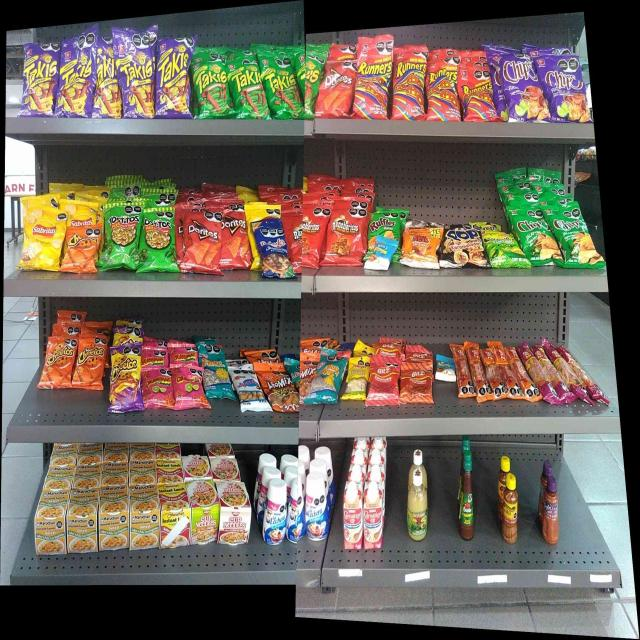bitzAlmendras: (368, 242, 397, 271), (436, 355, 456, 384)
bitzEnchilado90: (372, 359, 397, 405), (403, 364, 428, 402)
bitzEnchilado95: (456, 342, 523, 403)
bitzHabanero: (529, 348, 586, 403)
bokadosCacahuates: (262, 233, 286, 276)
botaneraChilito: (502, 473, 518, 545)
cheetosFlaminHot: (114, 356, 139, 407)
cheetosOriginal: (48, 336, 73, 388), (66, 232, 98, 271), (78, 342, 102, 383)
chipsFuego: (506, 57, 536, 118), (548, 65, 580, 118)
chipsJalapeno: (558, 211, 588, 264), (524, 212, 546, 258)
chipsPapatinas: (486, 237, 514, 266)
churrumais: (144, 371, 172, 406), (176, 370, 201, 403), (173, 343, 197, 364), (144, 346, 168, 364)
delPrimoSalsa: (406, 468, 428, 543)
doritosNacho: (189, 221, 220, 264), (222, 214, 246, 266), (323, 71, 351, 113)
hotNutsOriginal: (408, 226, 438, 264)
leoCacahuates: (238, 370, 262, 411)
leoMix: (267, 371, 292, 404), (298, 362, 316, 392)
maruchanPollo: (70, 494, 97, 552), (132, 488, 158, 548), (39, 494, 65, 553), (101, 492, 128, 547)
maruchanRes: (162, 488, 187, 548)
nestleCarnation: (363, 483, 383, 550), (344, 483, 362, 552)
nestleLechera: (264, 481, 288, 545), (306, 472, 327, 544)
nissinCamaron: (192, 490, 218, 548)
nissinRes: (222, 490, 248, 545)
popKarameladas: (446, 226, 479, 266)
rancheritos: (330, 214, 360, 256), (302, 213, 324, 265), (290, 217, 300, 250)
rufflesQueso: (368, 212, 398, 236)
runners: (357, 52, 390, 114), (397, 58, 423, 116), (431, 62, 456, 121), (464, 71, 490, 116)
sabritasOriginal: (29, 212, 60, 266), (69, 211, 99, 226)
salsaBufalo: (459, 447, 475, 541)
semillasCalabaza: (346, 358, 371, 398)
semillasGirasol: (203, 348, 227, 398), (317, 360, 343, 404)
tajinDulce: (542, 477, 558, 544)
takisFuego: (24, 47, 58, 115), (61, 40, 91, 113), (156, 39, 184, 111), (122, 51, 153, 115), (95, 51, 118, 116)
takisOriginal: (193, 70, 226, 113), (232, 65, 261, 112), (267, 68, 295, 110), (304, 64, 320, 100)
tostitos: (140, 214, 172, 264), (109, 212, 138, 258)
